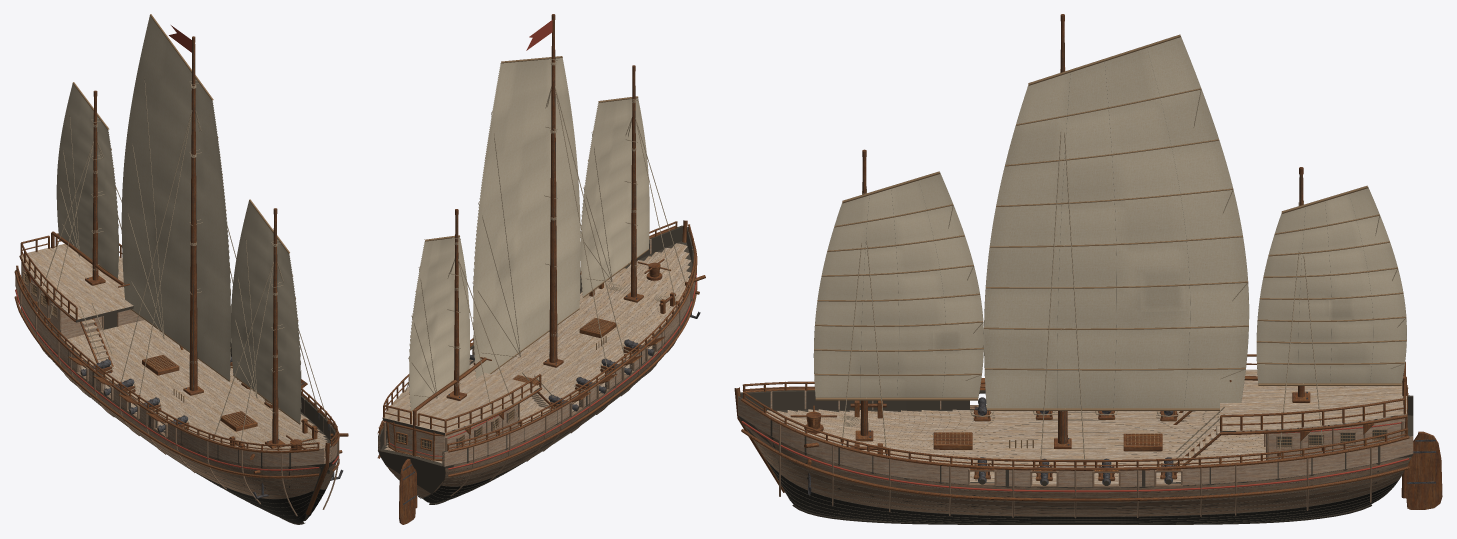
The model's file is fuchuan-lod0.glb.
3 views of the same model, side by side, from view 1: azimuth 30°, elevation 25°; view 2: azimuth 150°, elevation 25°; view 3: azimuth 270°, elevation 25° (orthographic). The views are drawn at different scales.
Parts seen in each view (by area): view 1: sail_1, deck, hull, sail_0, sail_2, deck_fittings, bulwark_rails, mast_timber_1, shadow_hull, sterncastle, mast_timber_0, rigging_1 (+7 smaller); view 2: sail_1, deck, sail_0, hull, sail_2, deck_fittings, shadow_hull, bulwark_rails, mast_timber_1, mast_timber_0, stern_transom, rudder_blade (+8 smaller); view 3: sail_1, hull, sail_0, sail_2, deck, bulwark_rails, shadow_hull, deck_fittings, rudder_blade, sterncastle, rigging_1.
Part boxes in pixels (bbox=[...]): sail_1: bbox=[121, 14, 231, 381]; deck: bbox=[19, 244, 330, 450]; hull: bbox=[14, 270, 339, 524]; sail_0: bbox=[231, 199, 301, 424]; sail_2: bbox=[56, 82, 119, 278]; deck_fittings: bbox=[21, 262, 348, 498]; bulwark_rails: bbox=[16, 233, 338, 452]; mast_timber_1: bbox=[189, 43, 197, 390]; shadow_hull: bbox=[15, 270, 337, 521]; sterncastle: bbox=[23, 266, 144, 339]; mast_timber_0: bbox=[272, 214, 278, 443]; rigging_1: bbox=[119, 110, 236, 398]; sail_1: bbox=[472, 56, 580, 378]; deck: bbox=[382, 243, 690, 463]; sail_0: bbox=[580, 96, 649, 297]; hull: bbox=[377, 220, 697, 504]; sail_2: bbox=[408, 235, 469, 411]; deck_fittings: bbox=[383, 259, 705, 461]; shadow_hull: bbox=[378, 225, 695, 502]; bulwark_rails: bbox=[378, 221, 695, 451]; mast_timber_1: bbox=[549, 20, 557, 362]; mast_timber_0: bbox=[631, 71, 636, 297]; stern_transom: bbox=[388, 423, 444, 458]; rudder_blade: bbox=[399, 458, 415, 524]; sail_1: bbox=[984, 34, 1249, 410]; hull: bbox=[734, 387, 1413, 524]; sail_0: bbox=[813, 171, 983, 400]; sail_2: bbox=[1256, 185, 1406, 386]; deck: bbox=[766, 369, 1407, 484]; bulwark_rails: bbox=[742, 354, 1408, 467]; shadow_hull: bbox=[738, 390, 1413, 523]; deck_fittings: bbox=[790, 385, 1407, 494]; rudder_blade: bbox=[1406, 431, 1442, 509]; sterncastle: bbox=[1266, 418, 1404, 460]; rigging_1: bbox=[1039, 132, 1086, 473].
Size of the model in its own units: 10.4 by 26.65 by 33.55.
Materials: 13 (8 with a texture image).
